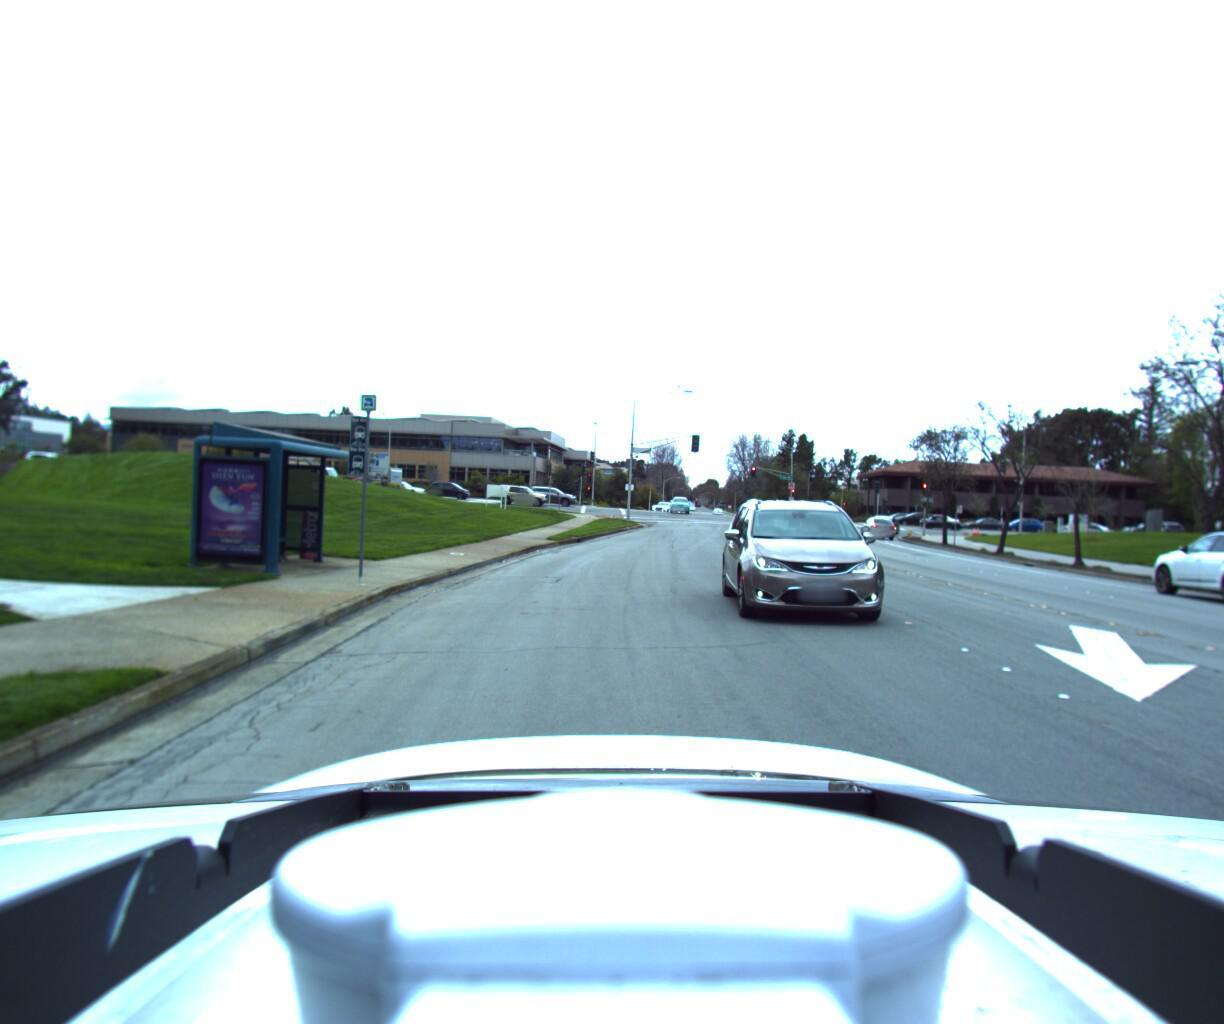car: (729, 496, 930, 649), (1122, 523, 1224, 615), (490, 482, 546, 507), (521, 484, 575, 506), (926, 513, 985, 531), (857, 515, 897, 539), (420, 481, 470, 500), (996, 513, 1048, 531), (670, 497, 692, 513)
truck: (260, 455, 342, 492)
